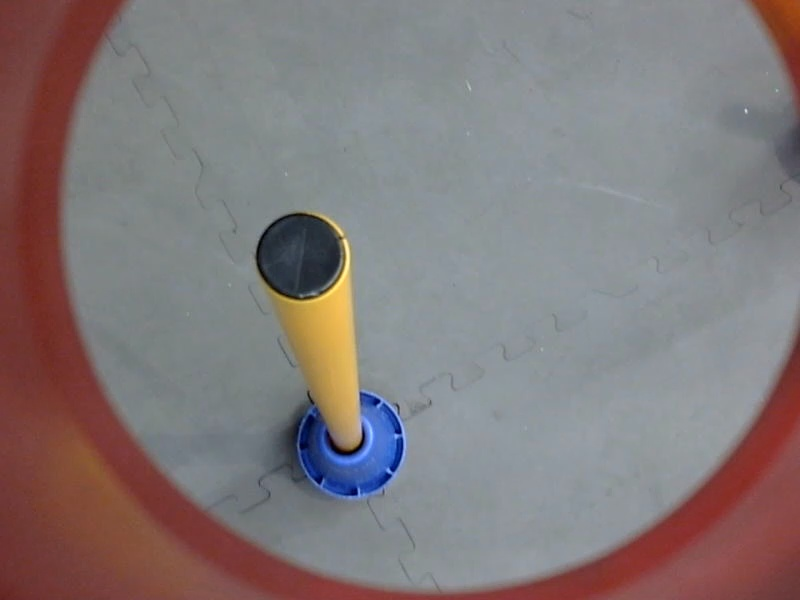tip: (252, 202, 356, 310)
